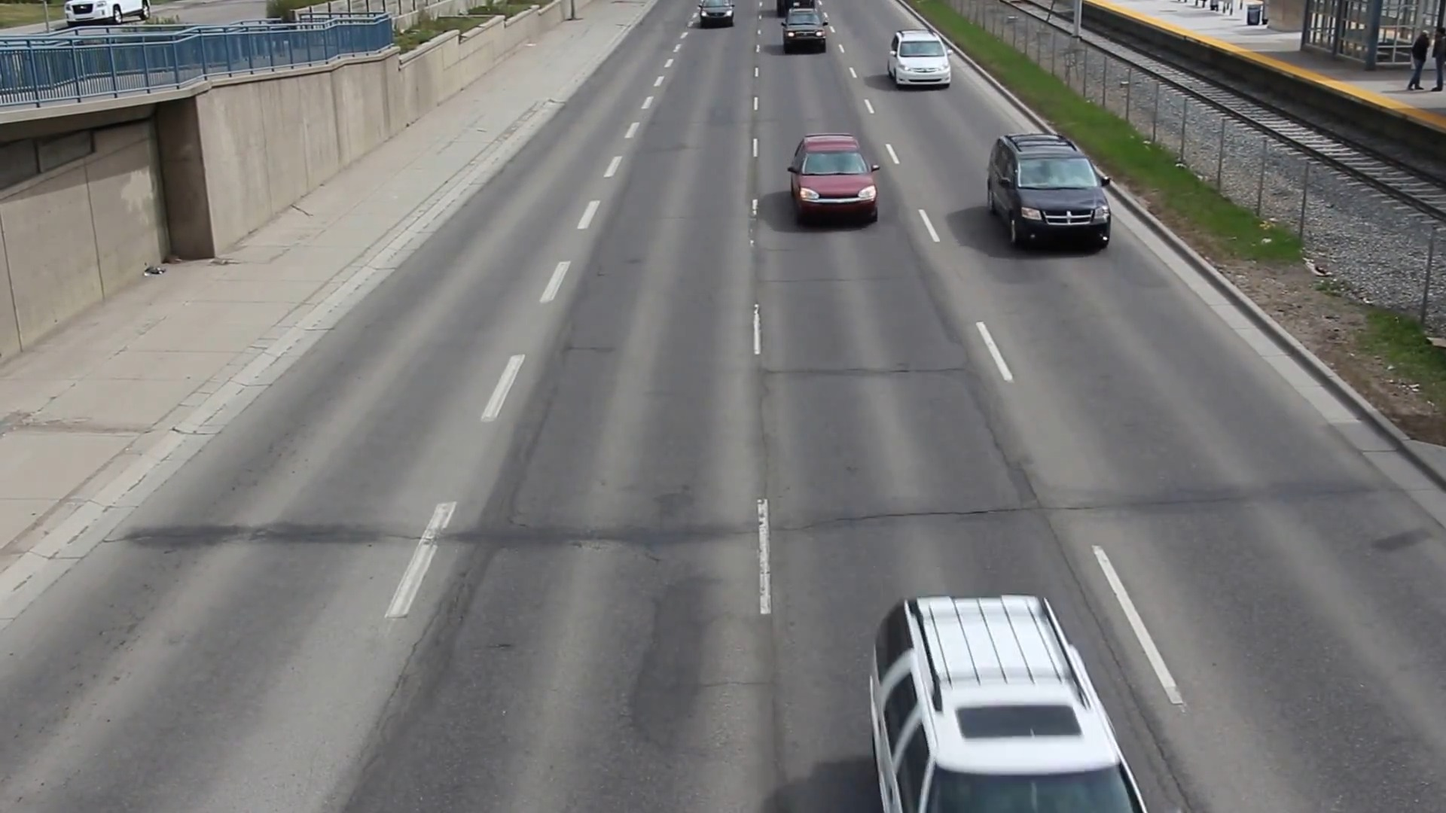car: (983, 134, 1119, 252), (789, 142, 882, 221), (889, 25, 956, 98)
